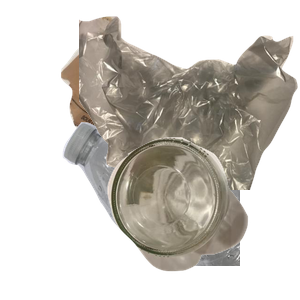cardboard: (58, 31, 222, 188)
glass: (105, 135, 300, 300)
plastic: (60, 120, 300, 300)
trash: (79, 14, 300, 194)
